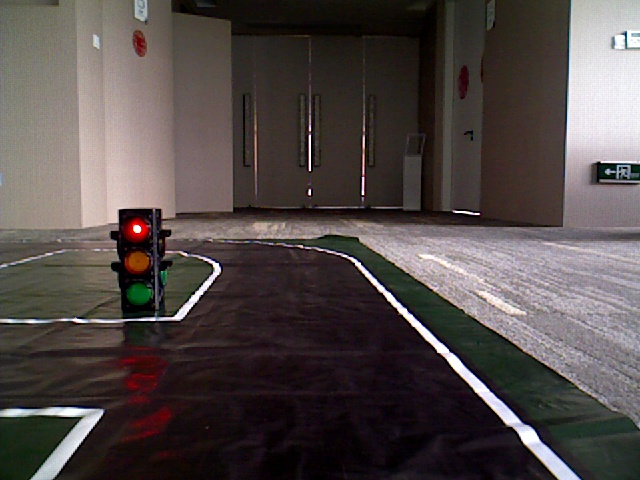red: (120, 209, 158, 312)
